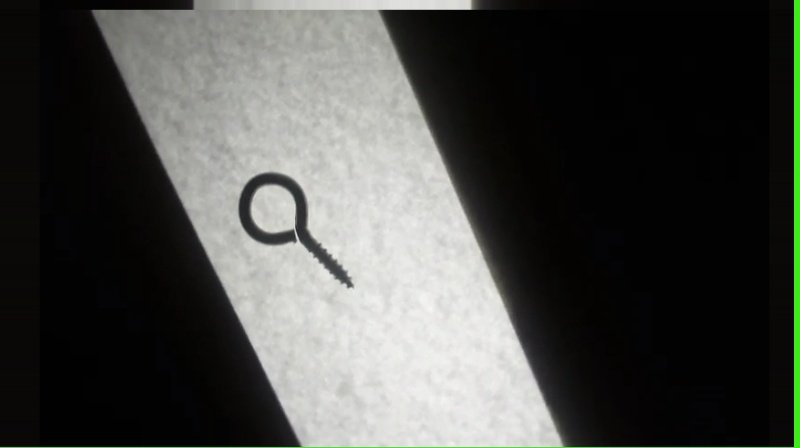O001: (235, 169, 356, 289)
